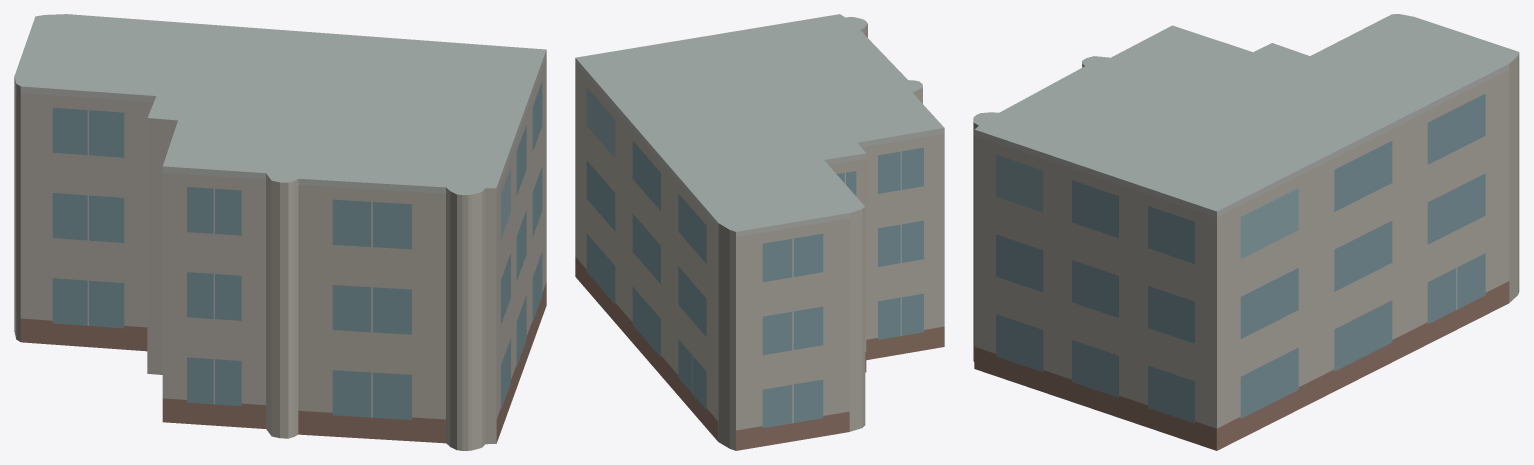
File: survey-upis-32673408.glb
3 views of the same model, side by side, from view 1: azimuth 30°, elevation 25°; view 2: azimuth 150°, elevation 25°; view 3: azimuth 270°, elevation 25° (orthographic). The views are drawn at different scales.
Parts seen in each view (by area): view 1: survey-upis-32673408.tmp; view 2: survey-upis-32673408.tmp; view 3: survey-upis-32673408.tmp.
Part boxes in pixels (x1,y1,x2,y2): survey-upis-32673408.tmp: (14,14,546,450); survey-upis-32673408.tmp: (575,14,944,450); survey-upis-32673408.tmp: (973,14,1519,450).
Bounding box in the file's own units: 17.53 × 9.9 × 20.47.
